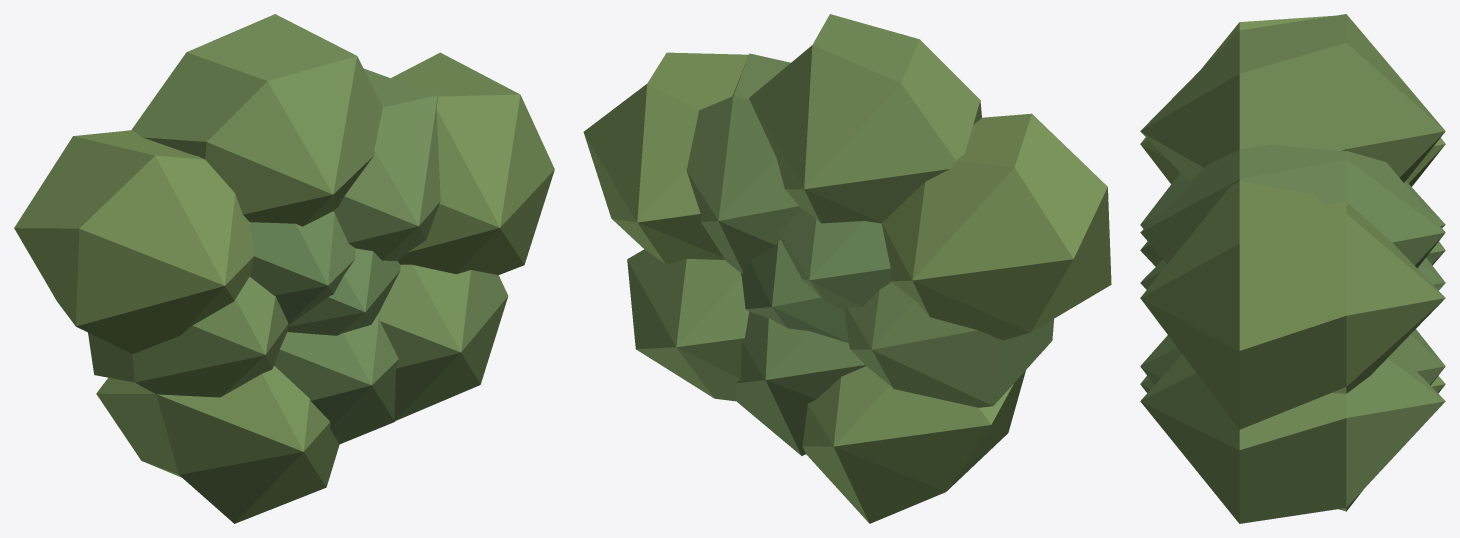
File: shrub.glb
3 views of the same model, side by side, from view 1: azimuth 30°, elevation 25°; view 2: azimuth 150°, elevation 25°; view 3: azimuth 270°, elevation 25° (orthographic). The views are drawn at different scales.
Visible parts, largest first — view 1: foliage; view 2: foliage; view 3: foliage.
Part boxes in pixels (x1=…): foliage: x1=14, y1=14, x2=554, y2=523; foliage: x1=583, y1=14, x2=1111, y2=523; foliage: x1=1140, y1=14, x2=1445, y2=523.
Bounding box in the file's own units: 1.99 × 1.8 × 1.
